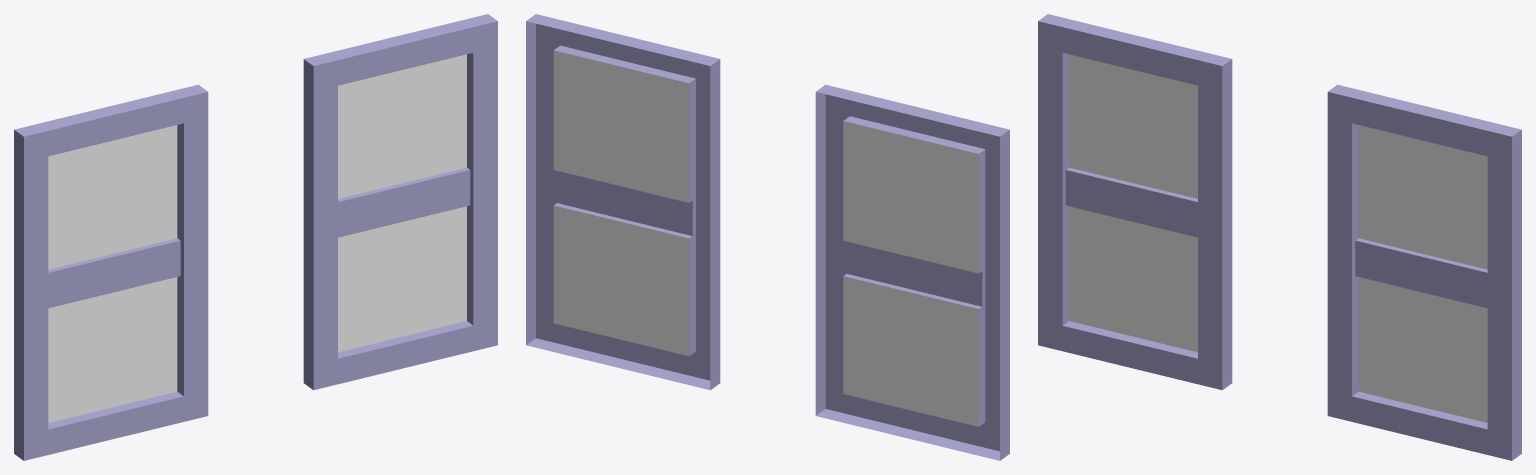
The model's file is window4.obj.
3 views of the same model, side by side, from view 1: azimuth 30°, elevation 25°; view 2: azimuth 150°, elevation 25°; view 3: azimuth 330°, elevation 25° (orthographic).
Parts seen in each view (by area): view 1: mergedBlocks; view 2: mergedBlocks; view 3: mergedBlocks.
Boxes of the visible parts, left/top/right/bottom form: mergedBlocks: left=14, top=14, right=497, bottom=460; mergedBlocks: left=526, top=14, right=1009, bottom=460; mergedBlocks: left=1038, top=14, right=1521, bottom=460.
Bounding box in the file's own units: 0.838 × 0.5477 × 0.03.
